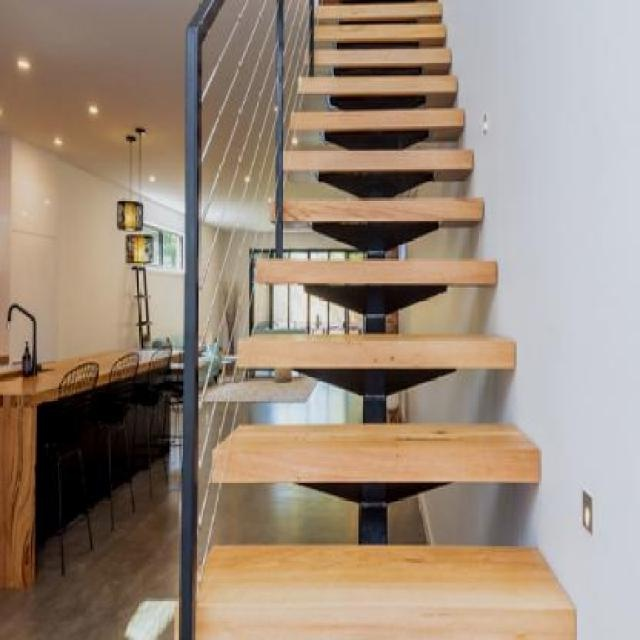stair: (144, 0, 586, 638)
